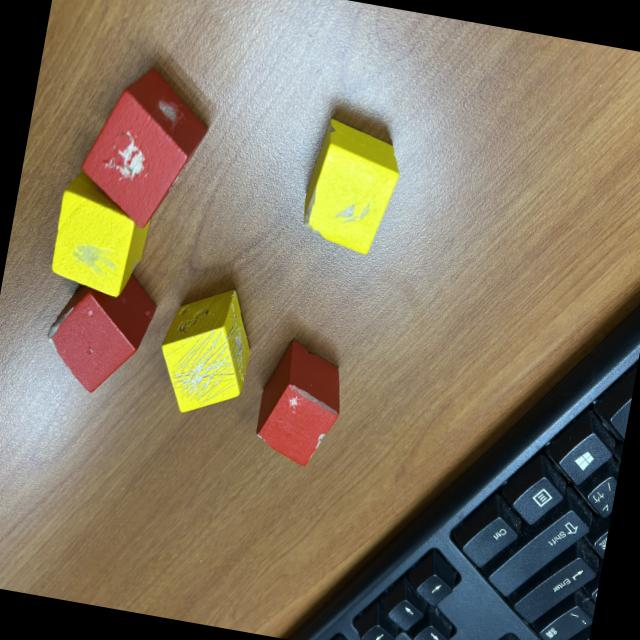broken: (70, 58, 218, 235), (38, 260, 162, 401), (147, 278, 260, 426), (296, 113, 407, 260), (46, 172, 158, 302), (250, 335, 350, 471)
